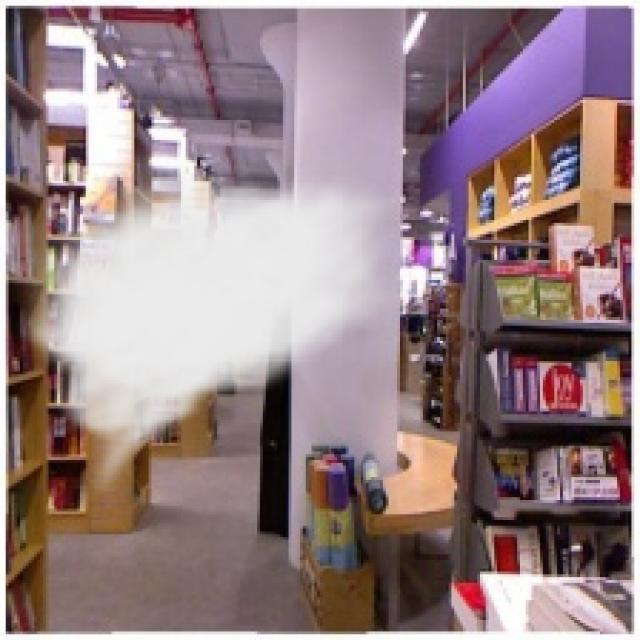smoke: (11, 160, 412, 503)
